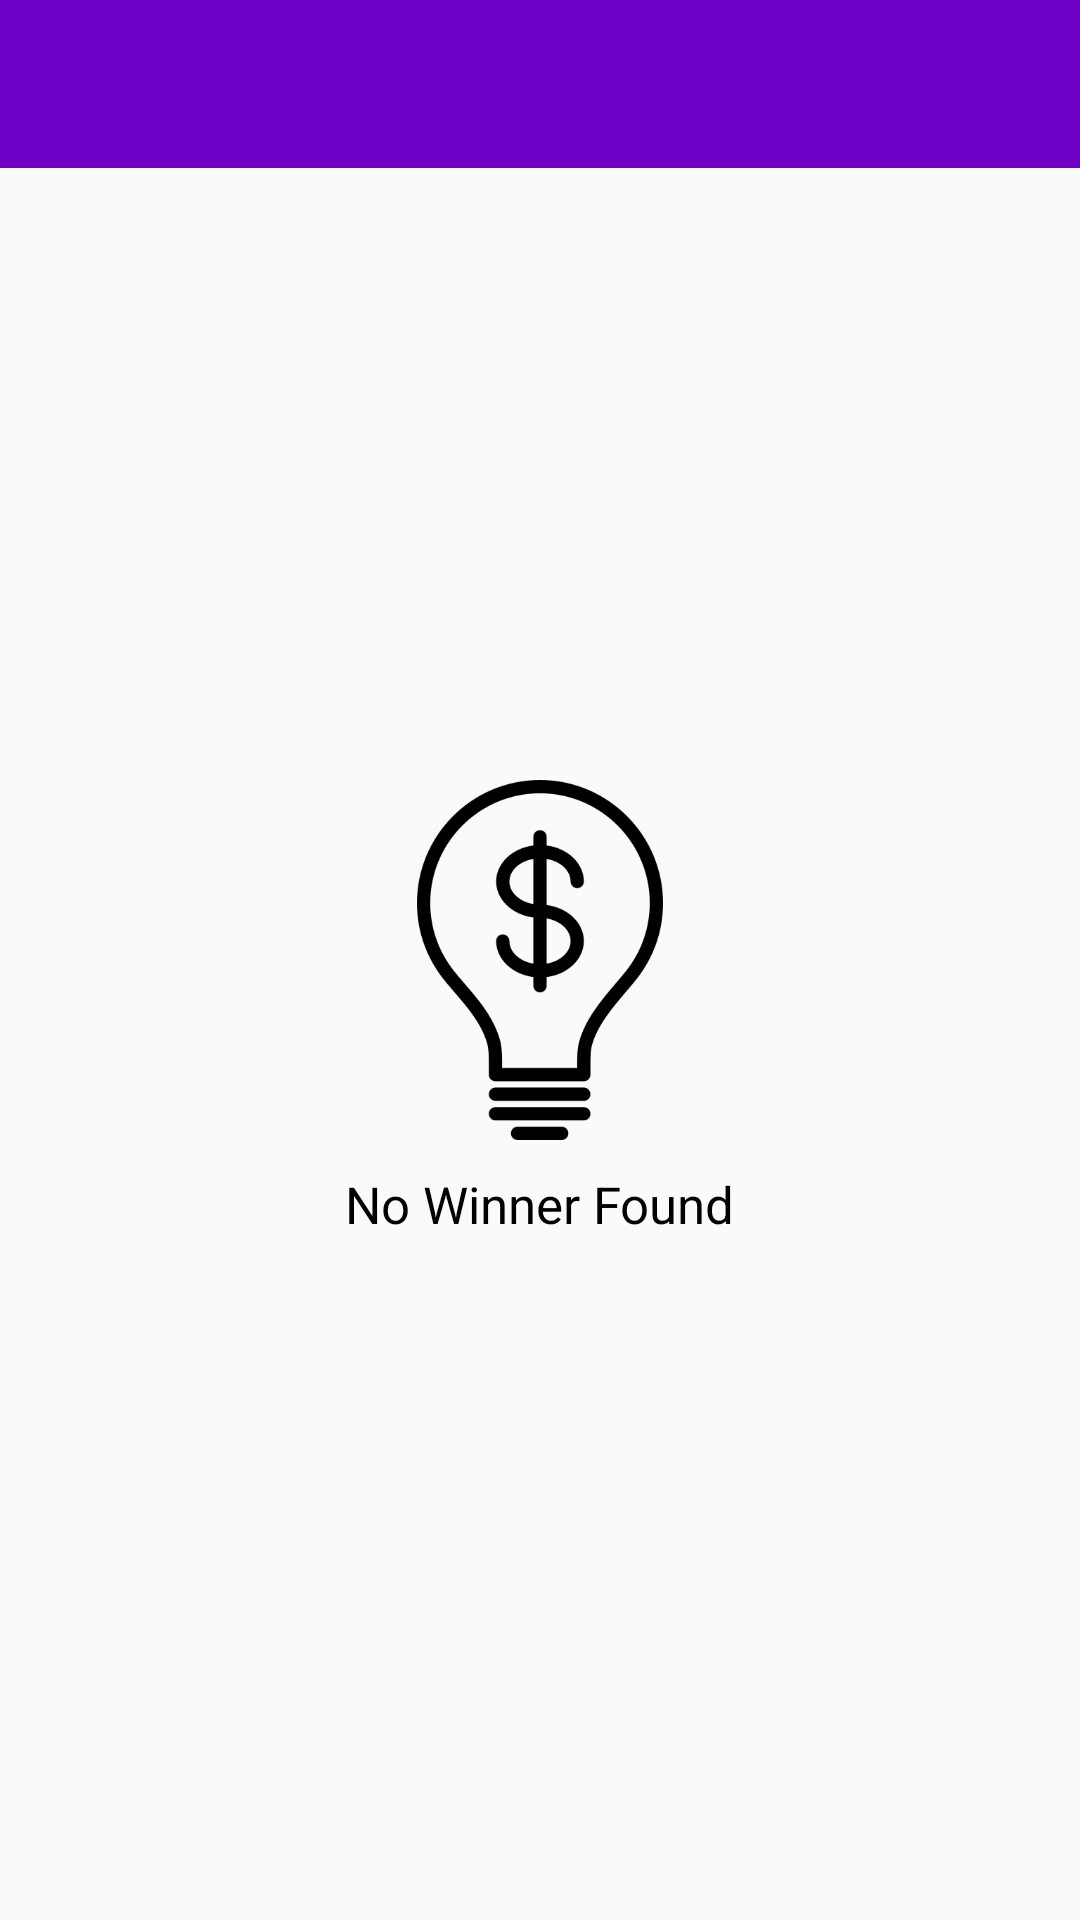

Icons on this 1080 x 1920 Android screen, each with its box as (x1, y1, x2, y2):
moneyidea: (417, 780, 663, 1140)
